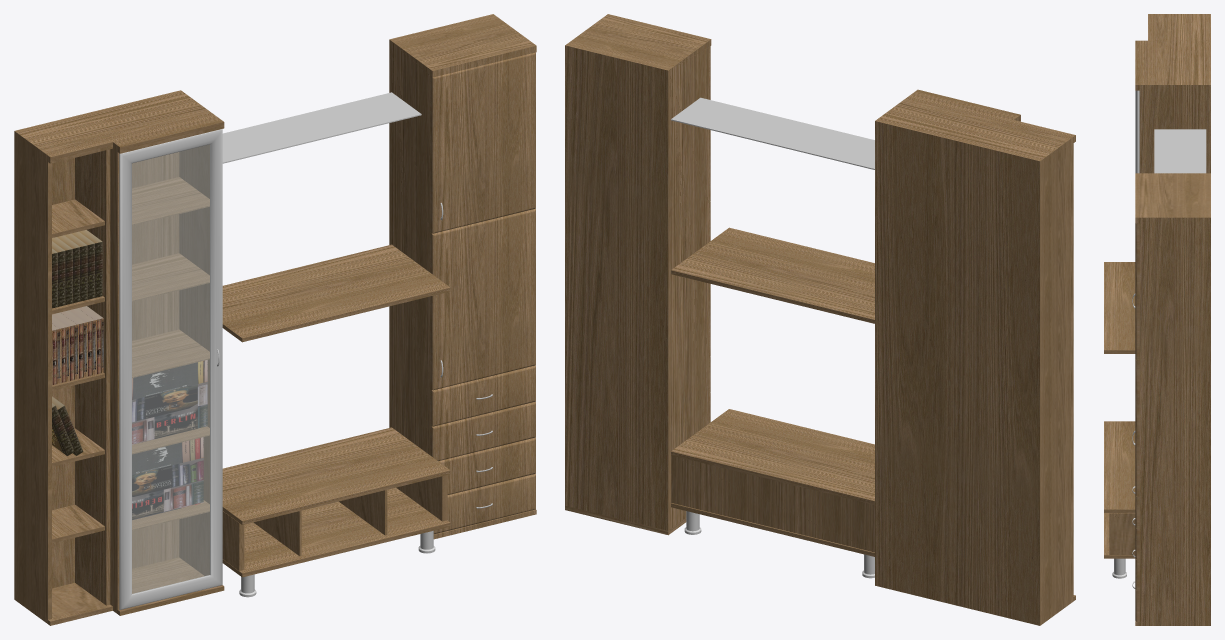
File: TV_Stand_Set.fbx
The picture shows the model from 3 angles, left to right: view 1: azimuth 30°, elevation 25°; view 2: azimuth 150°, elevation 25°; view 3: azimuth 270°, elevation 25°; orthographic projection. The views are drawn at different scales.
Visible parts, largest first — view 1: polySurface59, polySurface44, polySurface47, polySurface46, polySurface48, polySurface45, polySurface63, polySurface35, polySurface49, polySurface34, polySurface38, polySurface19 (+13 smaller); view 2: polySurface59, polySurface49, polySurface47, polySurface63, polySurface35, polySurface30, polySurface38, polySurface34; view 3: polySurface59, polySurface49, polySurface63, polySurface35, polySurface38, polySurface47, polySurface36, polySurface45, polySurface34, polySurface29.
Part boxes in pixels (x1=…): polySurface59: x1=389, y1=14, x2=536, y2=539; polySurface44: x1=132, y1=144, x2=210, y2=594; polySurface47: x1=14, y1=115, x2=112, y2=625; polySurface46: x1=48, y1=149, x2=112, y2=621; polySurface48: x1=117, y1=144, x2=223, y2=611; polySurface45: x1=119, y1=129, x2=222, y2=610; polySurface63: x1=222, y1=244, x2=450, y2=342; polySurface35: x1=222, y1=427, x2=450, y2=524; polySurface49: x1=77, y1=90, x2=224, y2=615; polySurface34: x1=222, y1=487, x2=450, y2=577; polySurface38: x1=222, y1=92, x2=421, y2=163; polySurface19: x1=132, y1=360, x2=207, y2=444; polySurface59: x1=565, y1=14, x2=711, y2=535; polySurface49: x1=875, y1=89, x2=1020, y2=610; polySurface47: x1=978, y1=120, x2=1075, y2=625; polySurface63: x1=671, y1=227, x2=874, y2=323; polySurface35: x1=671, y1=409, x2=874, y2=504; polySurface30: x1=671, y1=455, x2=874, y2=552; polySurface38: x1=671, y1=97, x2=874, y2=169; polySurface34: x1=671, y1=503, x2=874, y2=556; polySurface59: x1=1135, y1=173, x2=1210, y2=625; polySurface49: x1=1135, y1=40, x2=1210, y2=173; polySurface63: x1=1104, y1=262, x2=1135, y2=353; polySurface35: x1=1104, y1=421, x2=1135, y2=512; polySurface38: x1=1154, y1=129, x2=1206, y2=173; polySurface47: x1=1148, y1=14, x2=1210, y2=40; polySurface36: x1=1109, y1=513, x2=1135, y2=554; polySurface45: x1=1135, y1=90, x2=1139, y2=173; polySurface34: x1=1104, y1=513, x2=1135, y2=558; polySurface29: x1=1112, y1=558, x2=1126, y2=578.
Size of the model in its own units: 2.3 by 2.15 by 0.51.
